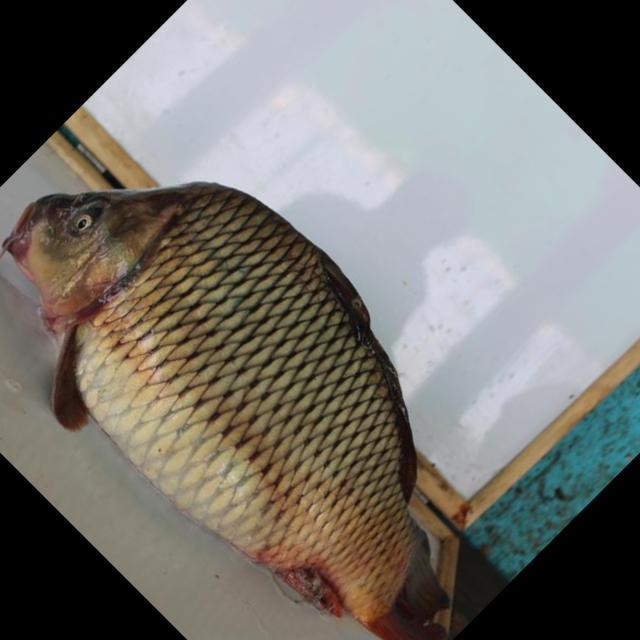CommonCarp: (7, 182, 469, 640)
